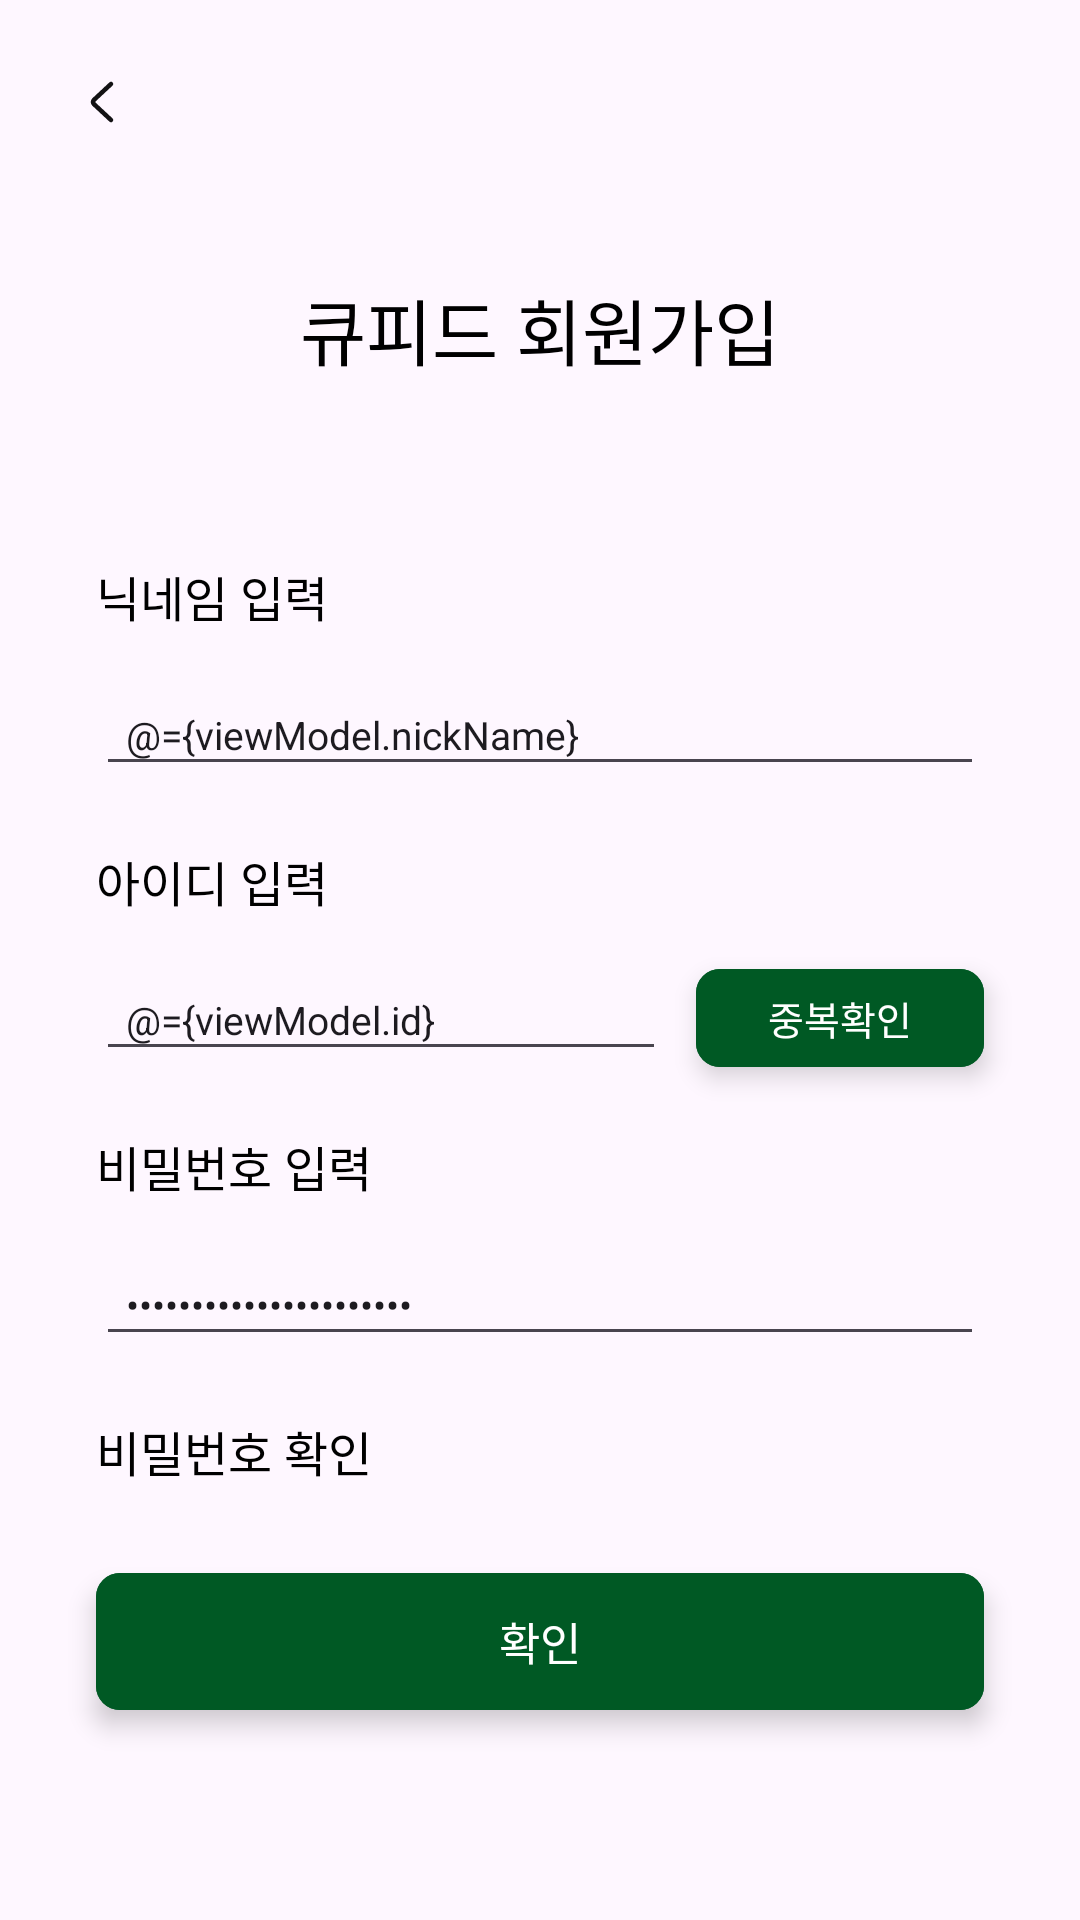

Point at icon controls on the screen. Image size 1080 x 1920, points as (x=x, y=y).
back: (x=102, y=102)
